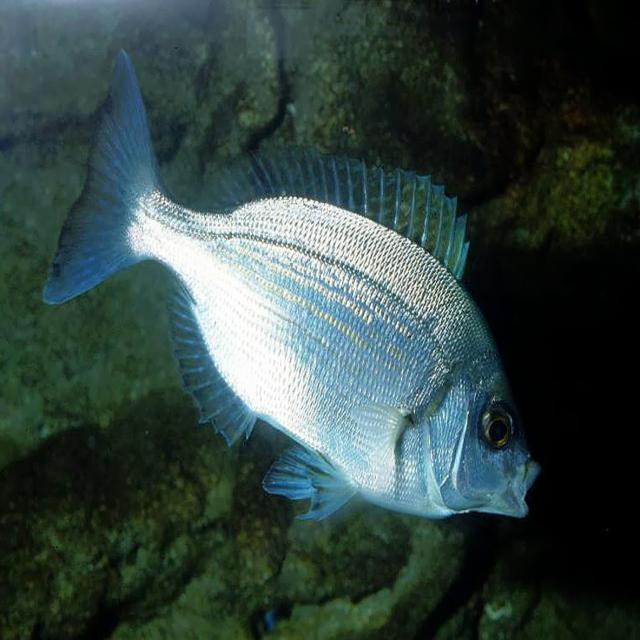Healthy Fish: (40, 51, 558, 525)
